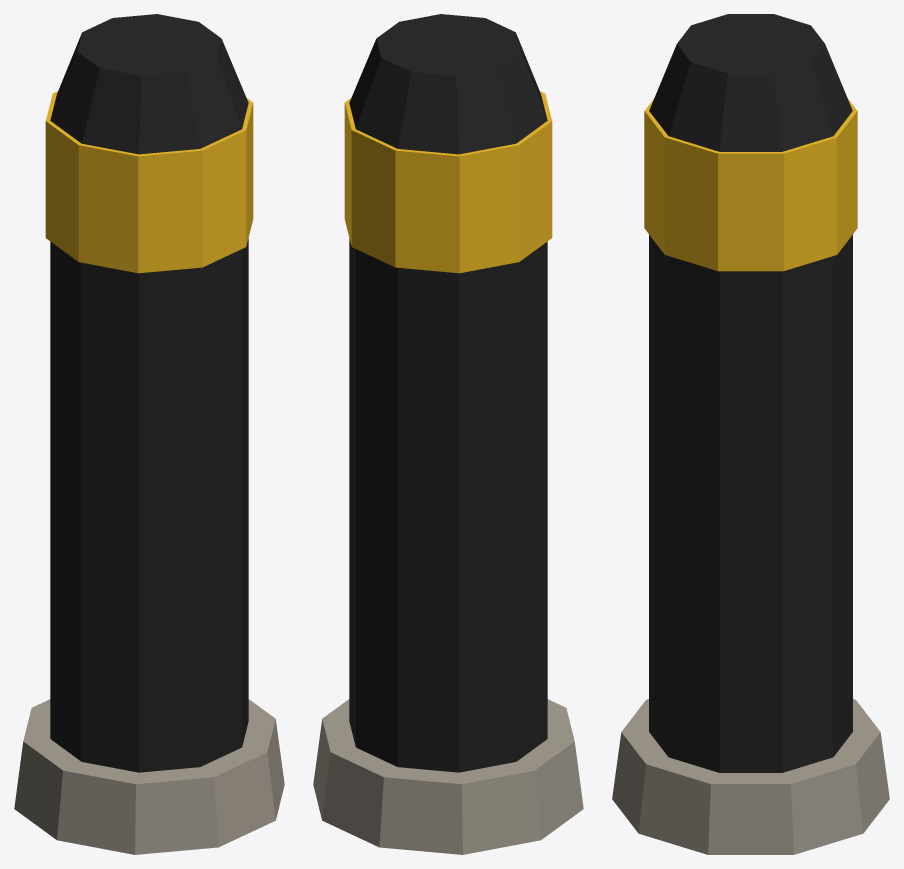
The model's file is landside_bollard.glb.
The picture shows the model from 3 angles, left to right: view 1: azimuth 30°, elevation 25°; view 2: azimuth 150°, elevation 25°; view 3: azimuth 270°, elevation 25°; orthographic projection.
Visible parts, largest first — view 1: Bollard_Body; view 2: Bollard_Body; view 3: Bollard_Body.
Part boxes in pixels (<box>): Bollard_Body: <box>14,14,284,854</box>; Bollard_Body: <box>313,14,583,854</box>; Bollard_Body: <box>612,14,889,854</box>.
Bounding box in the file's own units: 0.2853 × 0.9 × 0.3.
1 material, 1 textured.
